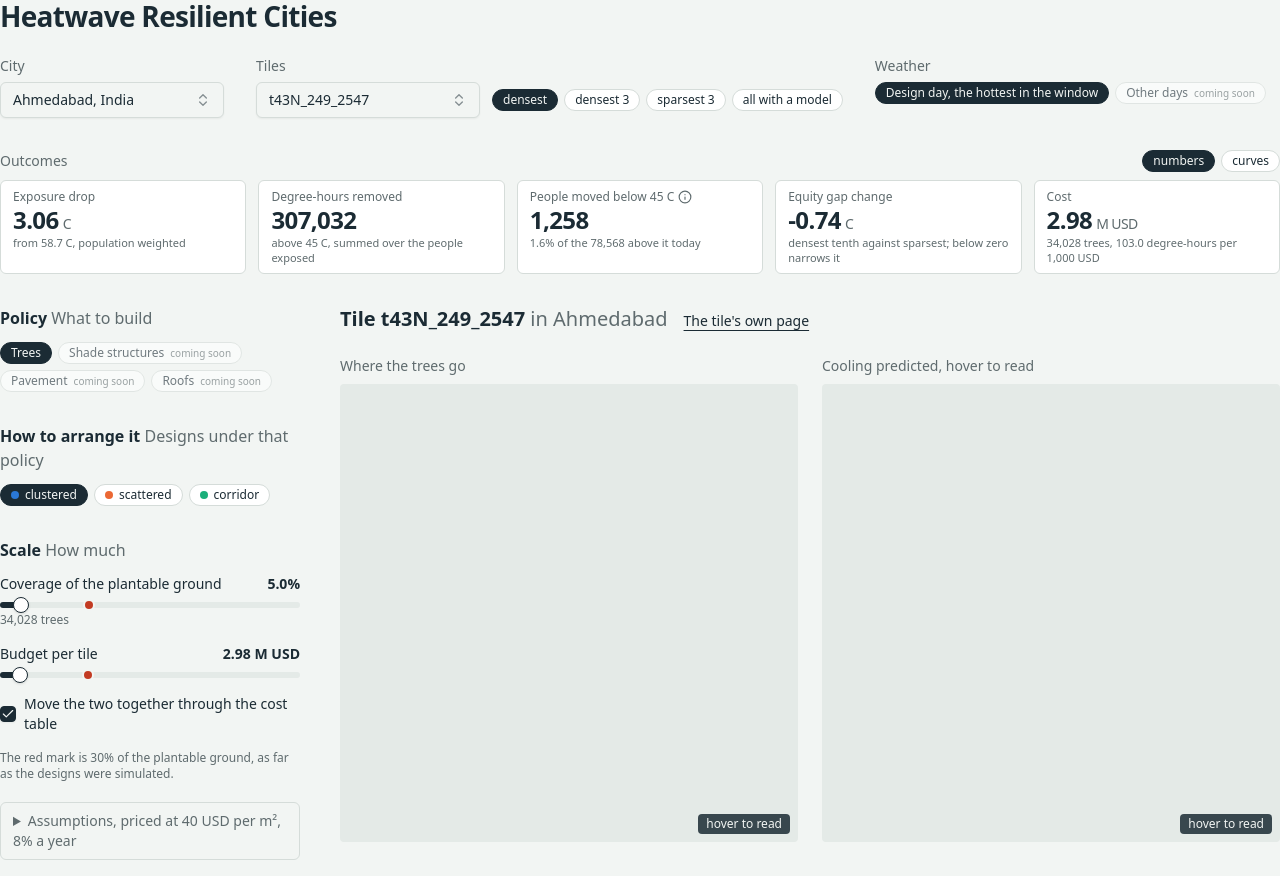
Scenario: offers the tile presets and lists tiles without a model as not selectable
Expected: the element named "Outcomes" is shown, [0,180,1279,274]
Click the button "all with a model".
click(787, 100)  # box [732,89,843,111]
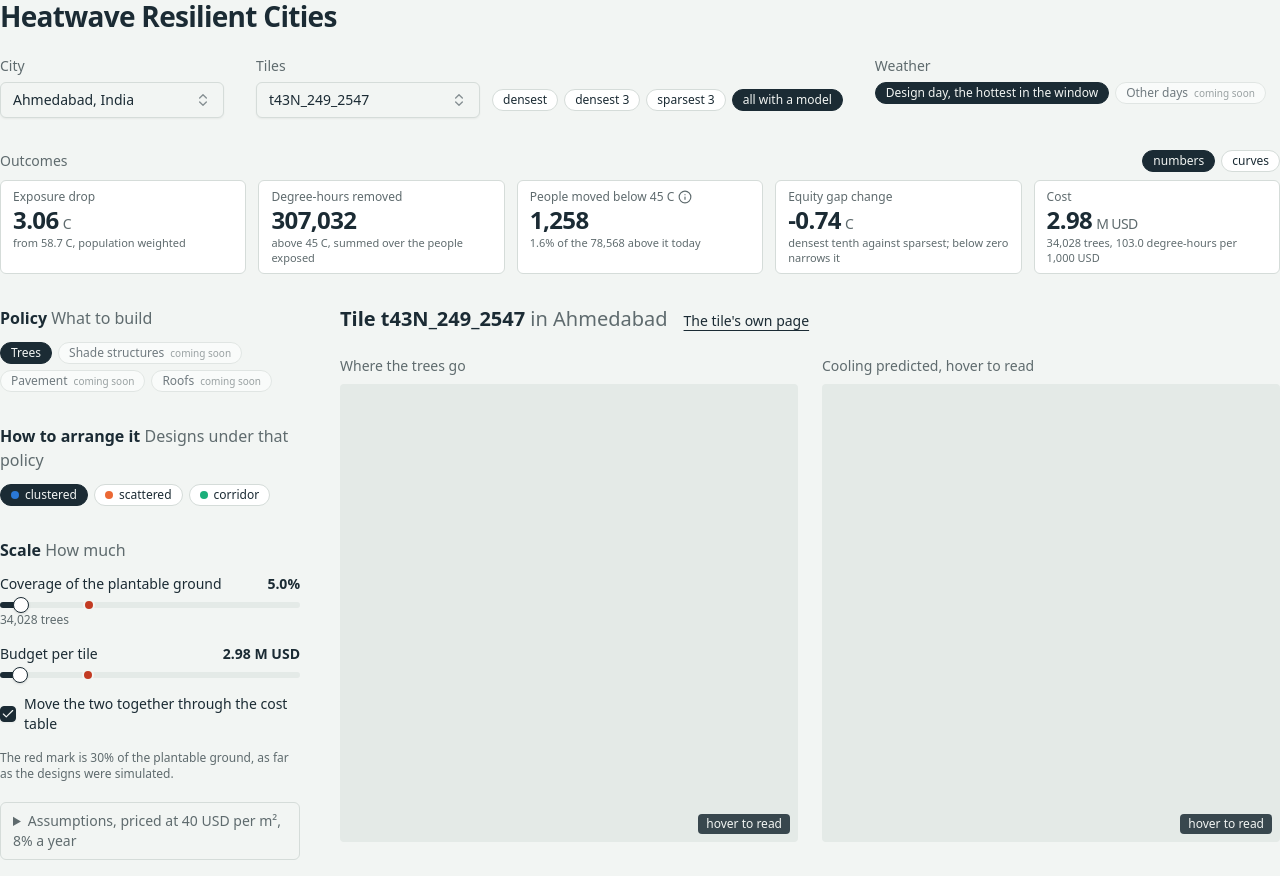
Click the dropdown named "Tiles".
click(368, 100)  # box [256,82,480,118]
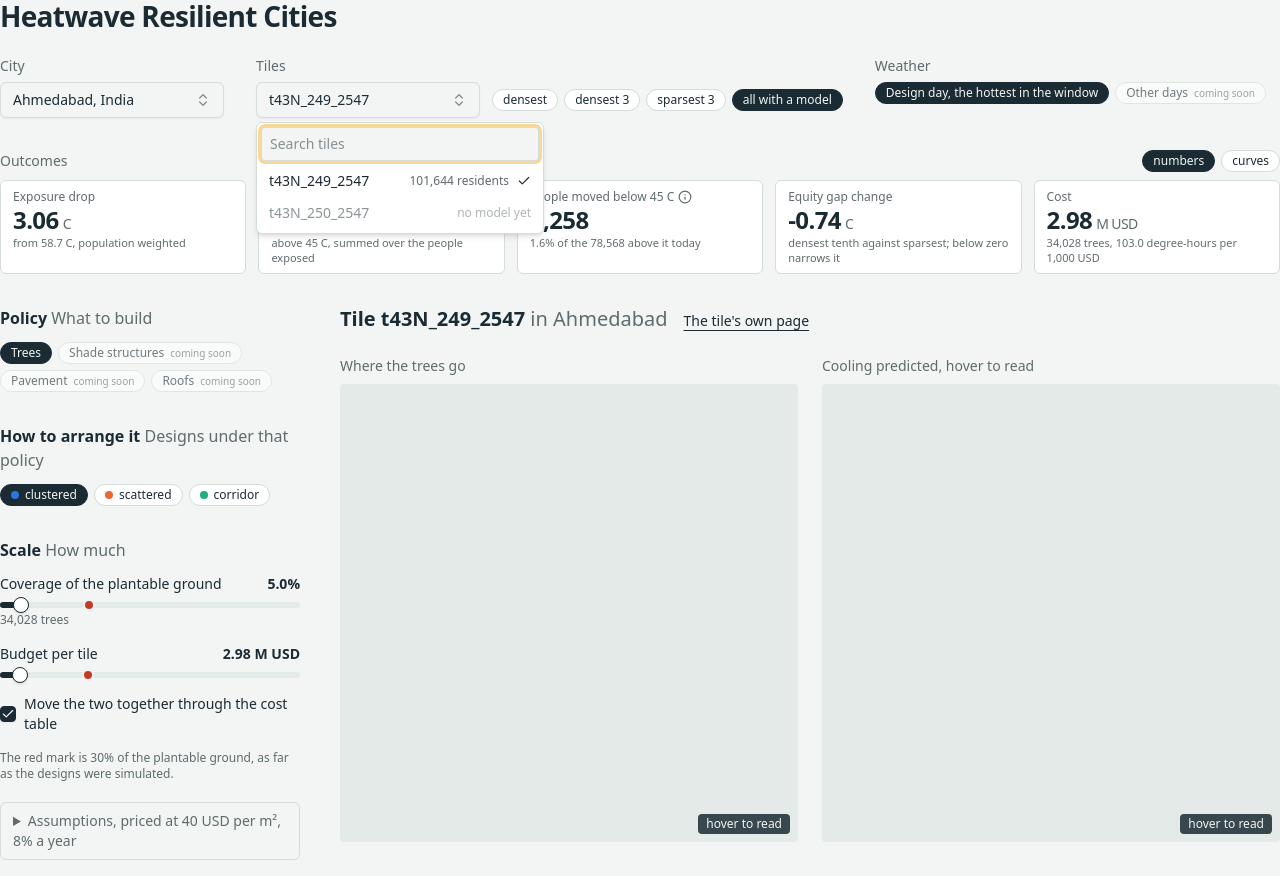
Result: the button "t43N_250_2547 no model yet" is disabled at [261,197,539,229]
Result: the text "no model yet" is shown at [457,205,531,221]
